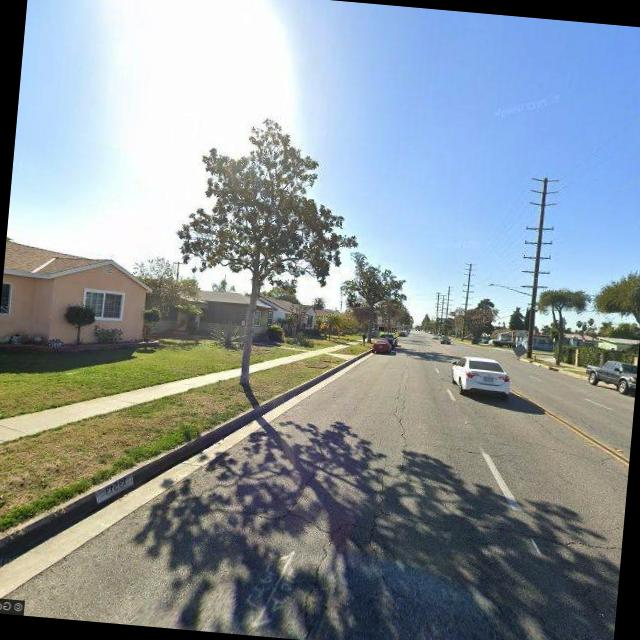crack: (215, 496, 375, 548), (368, 372, 418, 530), (478, 518, 623, 556), (299, 526, 339, 640)
